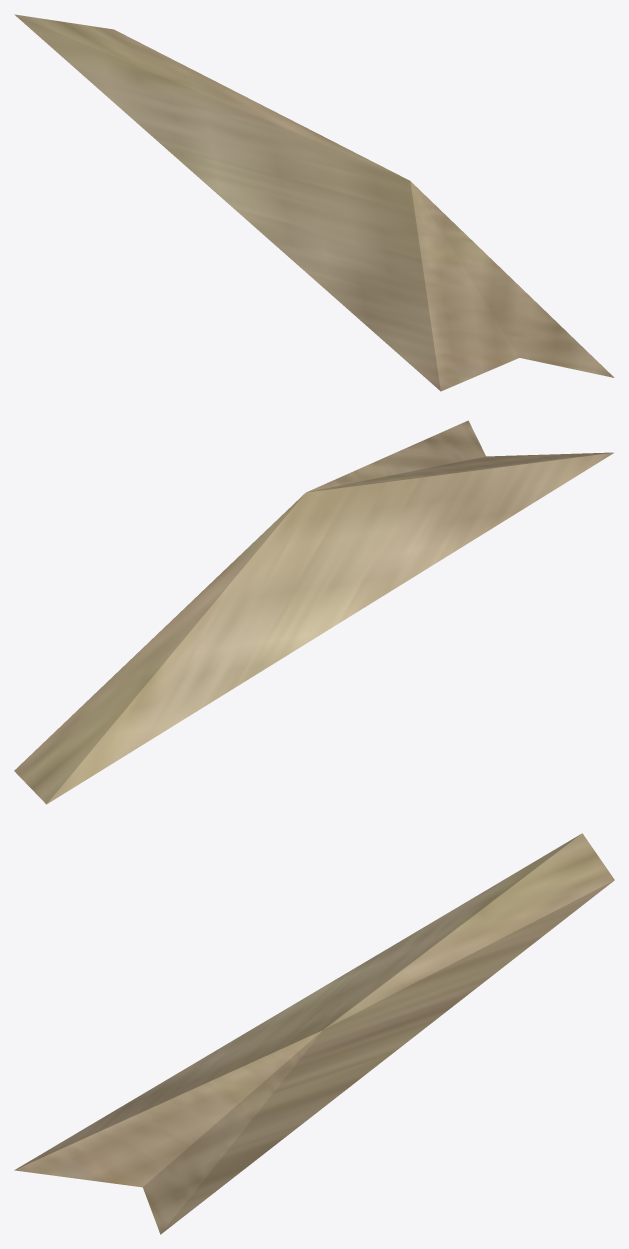
File: prop_wood_splinter01.glb
The picture shows the model from 3 angles, top to bottom: view 1: azimuth 30°, elevation 25°; view 2: azimuth 150°, elevation 25°; view 3: azimuth 330°, elevation 25°; orthographic projection.
Bounding box in the file's own units: 4.2 × 1.67 × 23.19.
1 material, 1 textured.
